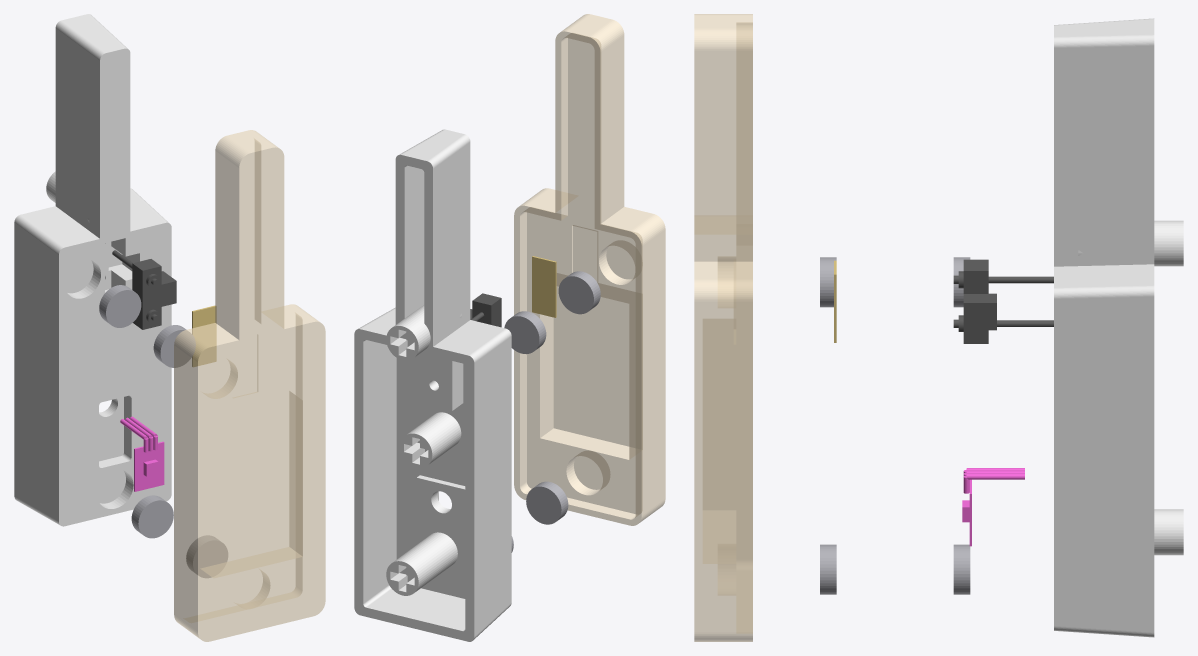
Rendered from key_exploded.glb.
3 views of the same model, side by side, from view 1: azimuth 30°, elevation 25°; view 2: azimuth 150°, elevation 25°; view 3: azimuth 270°, elevation 25° (orthographic). The views are drawn at different scales.
Parts seen in each view (by area): view 1: 5_topper, 4_key, 4b_magnets_key, 5a_magnets_topper, 4c_pogo_connector, 4a_rgb_led_strip_piece, 5b_short_plate; view 2: 4_key, 5_topper, 5a_magnets_topper, 5b_short_plate, 4b_magnets_key, 4c_pogo_connector; view 3: 4_key, 5_topper, 4c_pogo_connector, 5a_magnets_topper, 4b_magnets_key, 4a_rgb_led_strip_piece.
Boxes of the visible parts, x1=… form: 5_topper: x1=174, y1=130, x2=325, y2=641; 4_key: x1=14, y1=14, x2=171, y2=526; 4b_magnets_key: x1=99, y1=285, x2=173, y2=538; 5a_magnets_topper: x1=153, y1=325, x2=227, y2=577; 4c_pogo_connector: x1=112, y1=250, x2=176, y2=329; 4a_rgb_led_strip_piece: x1=120, y1=416, x2=164, y2=491; 5b_short_plate: x1=192, y1=305, x2=216, y2=366; 4_key: x1=354, y1=129, x2=511, y2=641; 5_topper: x1=514, y1=14, x2=665, y2=525; 5a_magnets_topper: x1=526, y1=271, x2=600, y2=524; 5b_short_plate: x1=532, y1=256, x2=556, y2=317; 4b_magnets_key: x1=504, y1=311, x2=546, y2=552; 4c_pogo_connector: x1=470, y1=293, x2=501, y2=327; 4_key: x1=1054, y1=18, x2=1183, y2=637; 5_topper: x1=694, y1=14, x2=752, y2=641; 4c_pogo_connector: x1=953, y1=259, x2=1053, y2=343; 5a_magnets_topper: x1=820, y1=257, x2=836, y2=594; 4b_magnets_key: x1=953, y1=257, x2=970, y2=594; 4a_rgb_led_strip_piece: x1=962, y1=468, x2=1024, y2=546.
Size of the model in its own units: 21.62 by 77.5 by 58.5.
